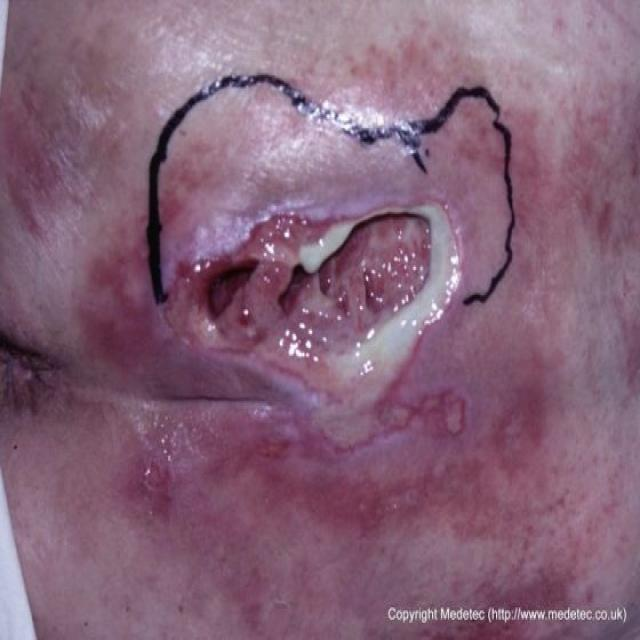stage-4: (160, 205, 460, 446)
